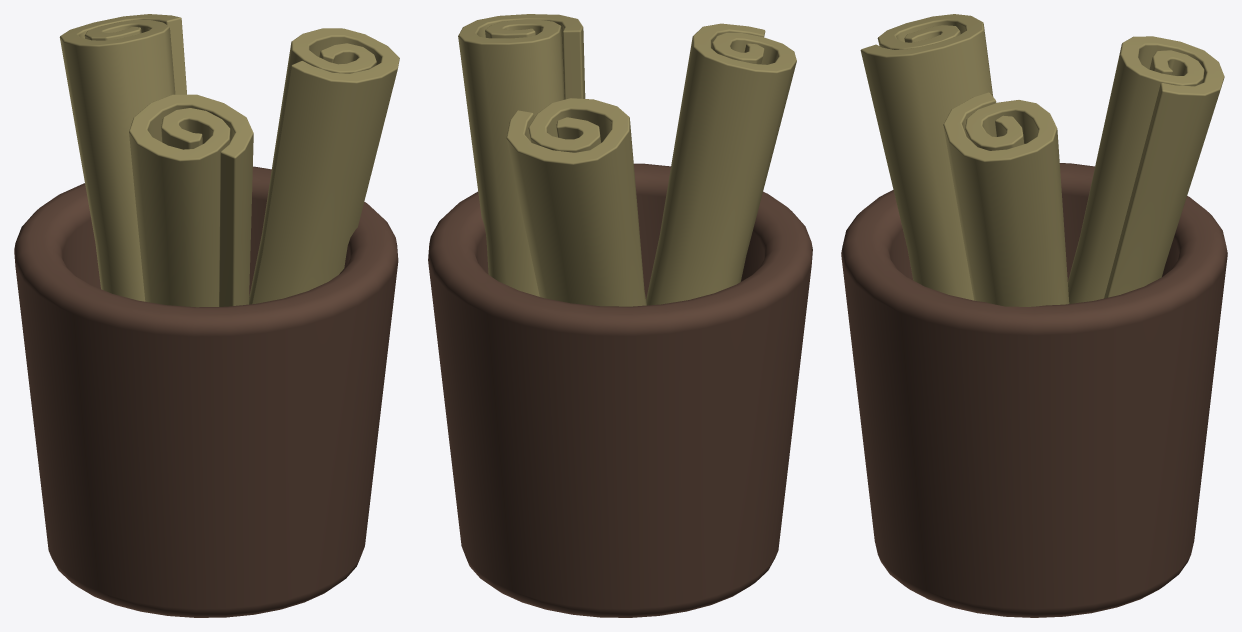
File: scroll basket.fbx
The picture shows the model from 3 angles, left to right: view 1: azimuth 30°, elevation 25°; view 2: azimuth 150°, elevation 25°; view 3: azimuth 270°, elevation 25°; orthographic projection.
Parts seen in each view (by area): view 1: Vert.007, scroll_high.004, scroll_high.005, scroll_high.003; view 2: Vert.007, scroll_high.005, scroll_high.003, scroll_high.004; view 3: Vert.007, scroll_high.003, scroll_high.005, scroll_high.004.
Part boxes in pixels (bbox=[...]): Vert.007: bbox=[14, 166, 398, 617]; scroll_high.004: bbox=[249, 28, 399, 304]; scroll_high.005: bbox=[129, 94, 253, 307]; scroll_high.003: bbox=[59, 14, 186, 301]; Vert.007: bbox=[428, 163, 812, 617]; scroll_high.005: bbox=[646, 23, 796, 305]; scroll_high.003: bbox=[506, 98, 646, 306]; scroll_high.004: bbox=[458, 14, 585, 296]; Vert.007: bbox=[841, 163, 1227, 617]; scroll_high.003: bbox=[1068, 36, 1224, 303]; scroll_high.005: bbox=[860, 14, 993, 300]; scroll_high.004: bbox=[943, 92, 1069, 306].
Size of the model in its own units: 43.43 by 61.24 by 43.06.
